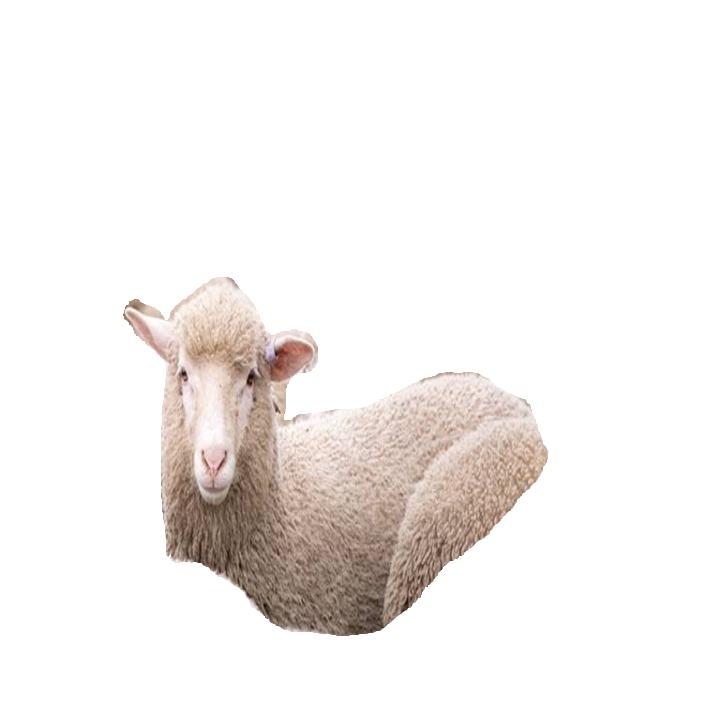Sheep: (117, 272, 555, 640)
